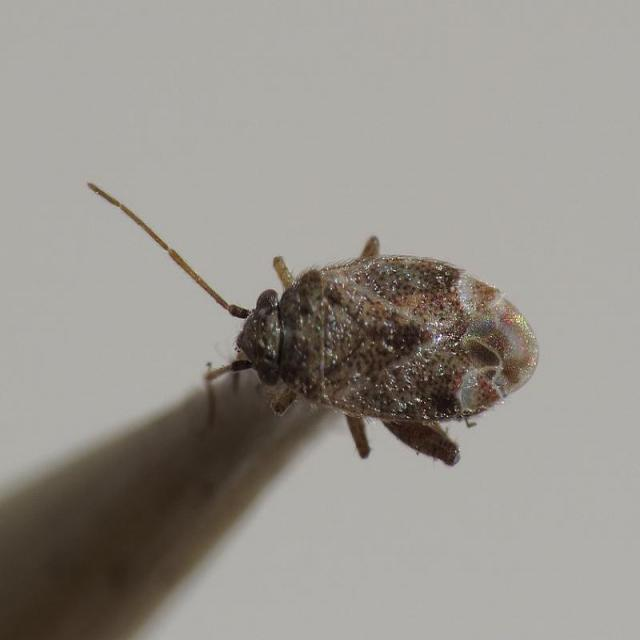Miridae-Adult-: (67, 169, 545, 476)
